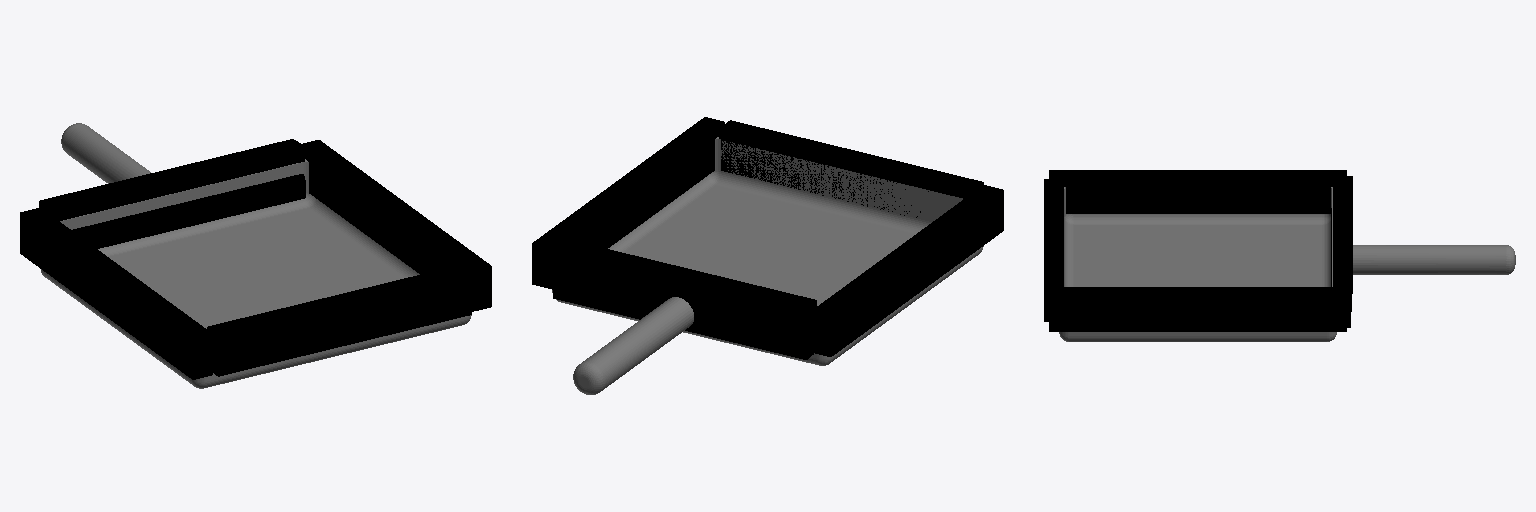
robot.urdf — ground_skeleton:
<?xml version="1.0"?>
<robot name="ground_skeleton">
    <link name="world" />
    <link name="ground_link">
        <inertial>
            <mass value="1.0" />
            <origin xyz="0 0 0" rpy="0 0 0" />
            <inertia ixx="1.0" ixy="0" ixz="0" iyy="1.0" iyz="0" izz="1.0" />
        </inertial>
        <visual>
            <origin xyz="0 0 0.0" rpy="0 0 0" />
            <geometry>
<!--                <box size="0.28 0.28 0.04"/>-->
                <mesh filename="./real_pan.obj"/>
            </geometry>
            <material name="pan_grey_">
				<color rgba="0.5 0.5 0.5 1.0" />
			</material>
        </visual>
        <collision group="default">
            <origin xyz="0 0 0" rpy="0 0 0" />
            <geometry>
                <box size="0.28 0.28 0.04"/>
            </geometry>
        </collision>
    </link>
    <joint name="ground_joint" type="fixed">
        <origin xyz="0 0 0" rpy="0 0 0" />
        <parent link="world" />
        <child link="ground_link" />
    </joint>
    <link name="ground_link2">
        <inertial>
            <mass value="1.0" />
            <origin xyz="0 0.145 0.039" rpy="-0.05 0 0" />
            <inertia ixx="1.0" ixy="0" ixz="0" iyy="1.0" iyz="0" izz="1.0" />
        </inertial>
        <visual>
            <origin xyz="0 0.145 0.039" rpy="-0.05 0 0" />
            <geometry>
                <box size="0.255 0.02 0.05"/>
            </geometry>
            <material name="pan_grey">
				<color rgba="0 0 0 0" />
			</material>
        </visual>
        <collision group="default">
            <origin xyz="0 0.145 0.039" rpy="-0.05 0 0" />
            <geometry>
                <box size="0.255 0.02 0.05"/>
            </geometry>
        </collision>
    </link>
    <joint name="ground_joint2" type="fixed">
        <origin xyz="0 0 0" rpy="0 0 0" />
        <parent link="world" />
        <child link="ground_link2" />
    </joint>
    <link name="ground_link3">
        <inertial>
            <mass value="1.0" />
            <origin xyz="0 -0.145 0.04" rpy="0 0 0" />
            <inertia ixx="1.0" ixy="0" ixz="0" iyy="1.0" iyz="0" izz="1.0" />
        </inertial>
        <visual>
            <origin xyz="0 -0.145 0.04" rpy="0 0 0" />
            <geometry>
                <box size="0.255 0.02 0.04"/>
            </geometry>
            <material name="pan_grey">
				<color rgba="0 0 0 0" />
			</material>
        </visual>
        <collision group="default">
            <origin xyz="0 -0.145 0.04" rpy="0 0 0" />
            <geometry>
                <box size="0.255 0.02 0.04"/>
            </geometry>
        </collision>
    </link>
    <joint name="ground_joint3" type="fixed">
        <origin xyz="0 0 0" rpy="0 0 0" />
        <parent link="world" />
        <child link="ground_link3" />
    </joint>
    <link name="ground_link4">
        <inertial>
            <mass value="1.0" />
            <origin xyz="0.140 0 0.04" rpy="0 0 0" />
            <inertia ixx="1.0" ixy="0" ixz="0" iyy="1.0" iyz="0" izz="1.0" />
        </inertial>
        <visual>
            <origin xyz="0.140 0 0.04" rpy="0 0 0" />
            <geometry>
                <box size="0.02 0.30 0.04"/>
            </geometry>
            <material name="pan_grey">
				<color rgba="0 0 0 0" />
			</material>
        </visual>
        <collision group="default">
            <origin xyz="0.140 0 0.04" rpy="0 0 0" />
            <geometry>
                <box size="0.02 0.30 0.04"/>
            </geometry>
        </collision>
    </link>
    <joint name="ground_joint4" type="fixed">
        <origin xyz="0 0 0" rpy="0 0 0" />
        <parent link="world" />
        <child link="ground_link4" />
    </joint>
    <link name="ground_link5">
        <inertial>
            <mass value="1.0" />
            <origin xyz="-0.140 0 0.04" rpy="0 0 0" />
            <inertia ixx="1.0" ixy="0" ixz="0" iyy="1.0" iyz="0" izz="1.0" />
        </inertial>
        <visual>
            <origin xyz="-0.140 0 0.04" rpy="0 0 0" />
            <geometry>
                <box size="0.02 0.30 0.04"/>
            </geometry>
            <material name="pan_grey">
				<color rgba="0 0 0 0" />
			</material>
        </visual>
        <collision group="default">
            <origin xyz="-0.140 0 0.04" rpy="0 0 0" />
            <geometry>
                <box size="0.02 0.30 0.04"/>
            </geometry>
        </collision>
    </link>
    <joint name="ground_joint5" type="fixed">
        <origin xyz="0 0 0" rpy="0 0 0" />
        <parent link="world" />
        <child link="ground_link5" />
    </joint>
</robot>

--- Render facts (derived) ---
The picture shows the robot from 3 angles, left to right: view 1: azimuth 30°, elevation 25°; view 2: azimuth 150°, elevation 25°; view 3: azimuth 270°, elevation 25°; orthographic projection.
Model ground_skeleton with 6 links and 5 joints (5 fixed), rooted at world, posed all joints at 0.
Visible links, largest first — view 1: ground_link, ground_link3, ground_link2, ground_link5, ground_link4; view 2: ground_link, ground_link2, ground_link5, ground_link4, ground_link3; view 3: ground_link, ground_link4, ground_link5, ground_link2, ground_link3.
Link boxes in pixels (left/top/right/bottom): ground_link: left=41, top=123, right=471, bottom=388; ground_link3: left=207, top=265, right=471, bottom=376; ground_link2: left=39, top=139, right=305, bottom=248; ground_link5: left=20, top=208, right=212, bottom=379; ground_link4: left=302, top=140, right=491, bottom=311; ground_link: left=552, top=137, right=983, bottom=394; ground_link2: left=551, top=238, right=816, bottom=359; ground_link5: left=811, top=185, right=1003, bottom=356; ground_link4: left=532, top=117, right=724, bottom=288; ground_link3: left=719, top=120, right=983, bottom=217; ground_link: left=1059, top=187, right=1515, bottom=341; ground_link4: left=1049, top=287, right=1346, bottom=331; ground_link5: left=1049, top=170, right=1346, bottom=213; ground_link2: left=1331, top=175, right=1352, bottom=327; ground_link3: left=1044, top=179, right=1063, bottom=321.
Bounding box of the posed robot: 0.3 × 0.475 × 0.0645 m (x, y, z).
1 mesh visuals loaded from 1 distinct referenced files (1 OBJ).
